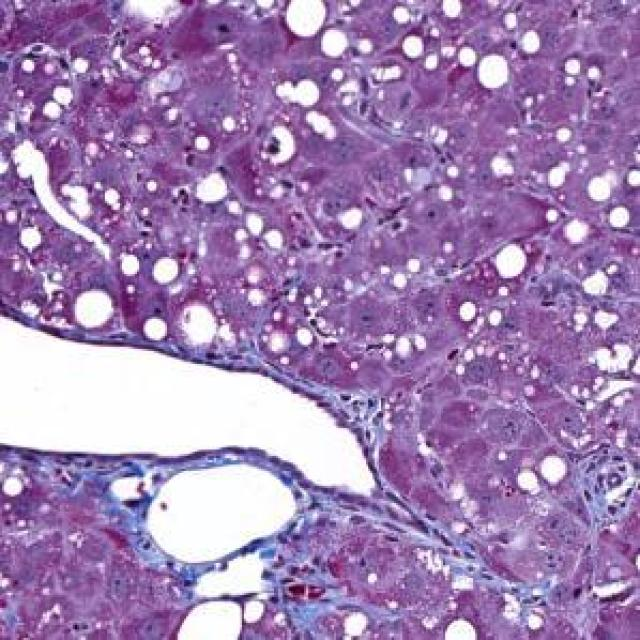fibrosis: (49, 456, 152, 524)
